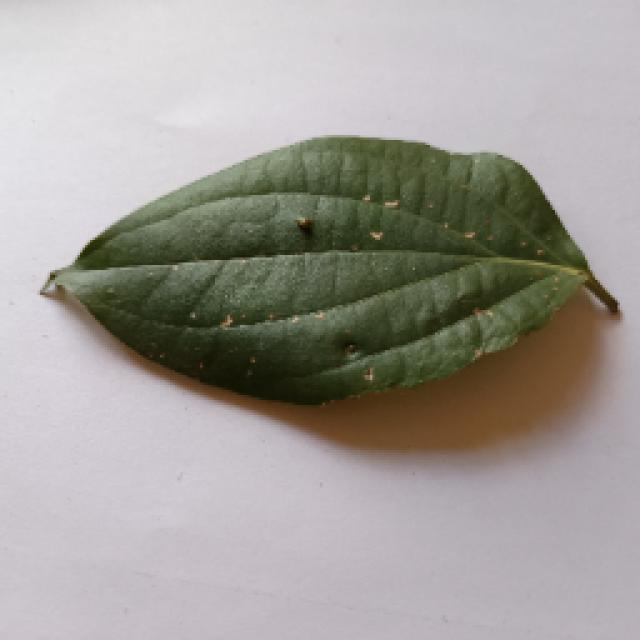pollu-disease: (30, 120, 618, 420)
